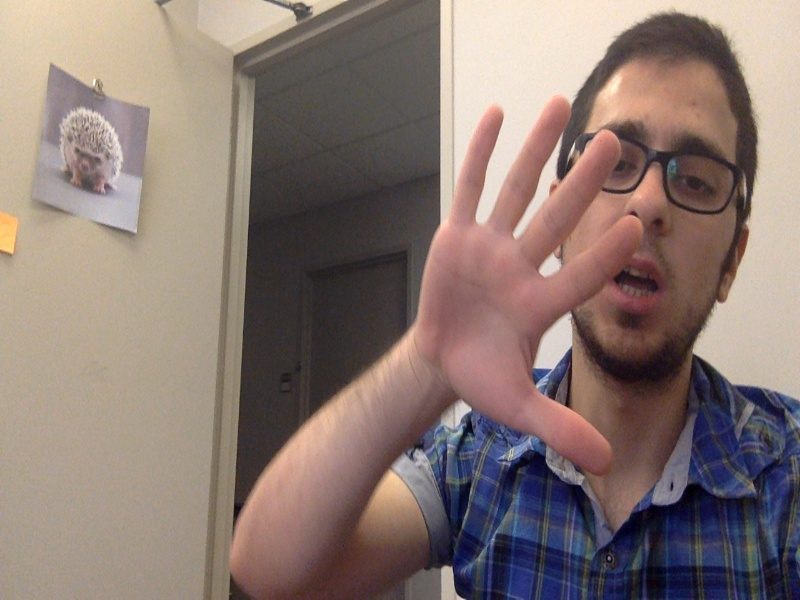5-hand: (413, 97, 642, 470)
